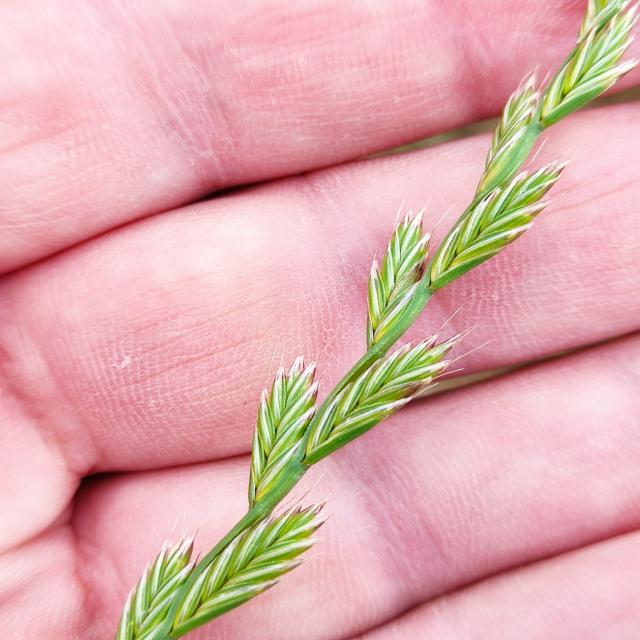Lolium: (111, 2, 637, 637)
